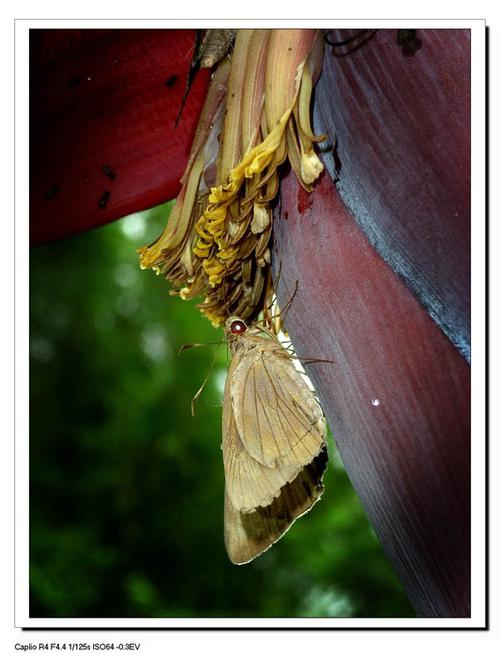Hesperiidae: (177, 240, 347, 579)
